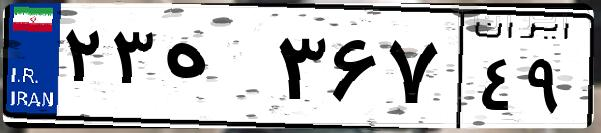2: (57, 26, 110, 100)
3: (270, 28, 330, 110), (110, 28, 158, 98)
4: (475, 38, 525, 113)
6: (330, 28, 385, 110)
7: (385, 28, 445, 110)
9: (525, 38, 570, 115)
ه: (158, 20, 270, 120)
